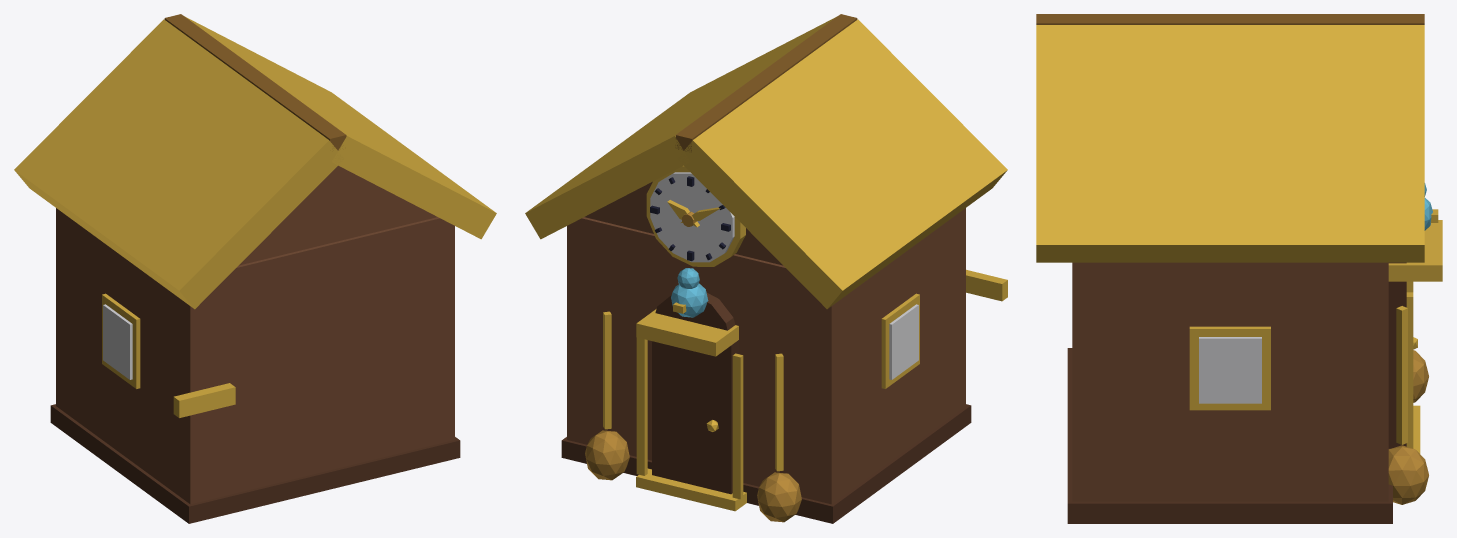
File: Decor_ClockTower_CuckooHouse.fbx
3 renders of one model, left to right at view 1: azimuth 30°, elevation 25°; view 2: azimuth 150°, elevation 25°; view 3: azimuth 270°, elevation 25°, orthographic. The views are drawn at different scales.
Visible parts, largest first — view 1: CuckooHouse_Body; view 2: CuckooHouse_Body; view 3: CuckooHouse_Body.
Boxes of the visible parts, x1,y1,x2,y2 form: CuckooHouse_Body: (14,14,496,523); CuckooHouse_Body: (525,14,1007,523); CuckooHouse_Body: (1036,14,1442,523).
Bounding box in the file's own units: 9.54 × 10.63 × 9.
